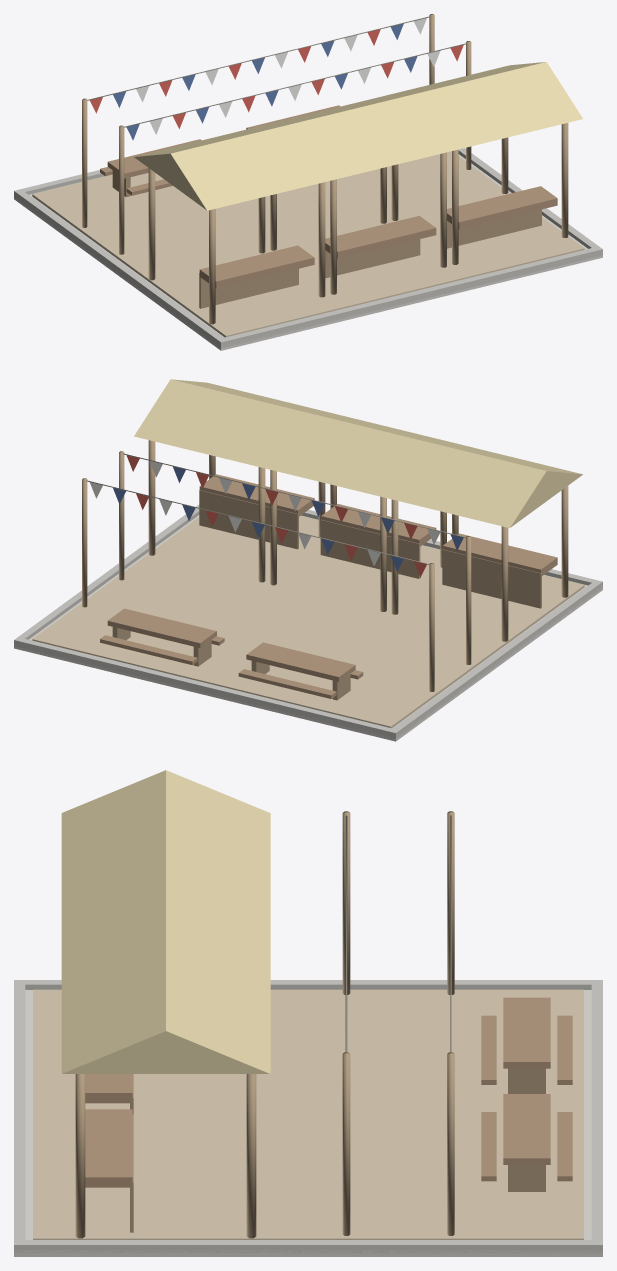
Rendered from mapa.fonda.fbx.
3 views of the same model, one above another, from view 1: azimuth 30°, elevation 25°; view 2: azimuth 150°, elevation 25°; view 3: azimuth 270°, elevation 25° (orthographic). The views are drawn at different scales.
Visible parts, largest first — view 1: Tierra, Techo de paja.002, Techo de paja.001, Techo de paja, Solera.001, Solera.003, Vereda, Mesón.002, Mesón.001, Mesón, Frente del mesón.002, Frente del mesón.001 (+15 smaller); view 2: Tierra, Techo de paja.002, Techo de paja, Techo de paja.001, Solera, Vereda, Frente del mesón.002, Frente del mesón.001, Frente del mesón, Solera.003, Mesa.001, Mesa (+20 smaller); view 3: Tierra, Techo de paja, Techo de paja.001, Techo de paja.002, Vereda, Solera.002, Mesón, Solera.003, Mesa.001, Mesa, Solera, Solera.001 (+14 smaller).
Boxes of the visible parts, box(x1,y1,x2,y2) form: Tierra: box(32, 151, 584, 337); Techo de paja.002: box(134, 122, 339, 210); Techo de paja.001: box(256, 91, 461, 180); Techo de paja: box(378, 62, 582, 151); Solera.001: box(217, 246, 602, 348); Solera.003: box(14, 189, 227, 347); Vereda: box(14, 154, 602, 350); Mesón.002: box(199, 245, 314, 288); Mesón.001: box(325, 215, 436, 258); Mesón: box(447, 186, 557, 229); Frente del mesón.002: box(199, 268, 298, 308); Frente del mesón.001: box(325, 239, 420, 278); Tierra: box(32, 515, 584, 728); Techo de paja.002: box(377, 438, 582, 527); Techo de paja: box(134, 379, 338, 468); Techo de paja.001: box(257, 409, 460, 495); Solera: box(14, 639, 399, 738); Vereda: box(14, 515, 602, 741); Frente del mesón.002: box(442, 549, 541, 608); Frente del mesón.001: box(320, 519, 420, 578); Frente del mesón: box(199, 490, 298, 549); Solera.003: box(389, 581, 602, 738); Mesa.001: box(246, 642, 355, 681); Mesa: box(107, 608, 216, 647); Tierra: box(33, 989, 583, 1239); Techo de paja: box(61, 939, 270, 1073); Techo de paja.001: box(61, 862, 270, 989); Techo de paja.002: box(61, 770, 270, 897); Vereda: box(14, 990, 602, 1256); Solera.002: box(14, 1240, 602, 1253); Mesón: box(85, 1109, 132, 1187); Solera.003: box(15, 980, 602, 989); Mesa.001: box(503, 997, 550, 1068); Mesa: box(503, 1094, 550, 1164); Solera: box(591, 980, 602, 1253); Solera.001: box(14, 980, 25, 1253).
Bounding box in the file's own units: 3.3 × 1.3 × 3.1.
